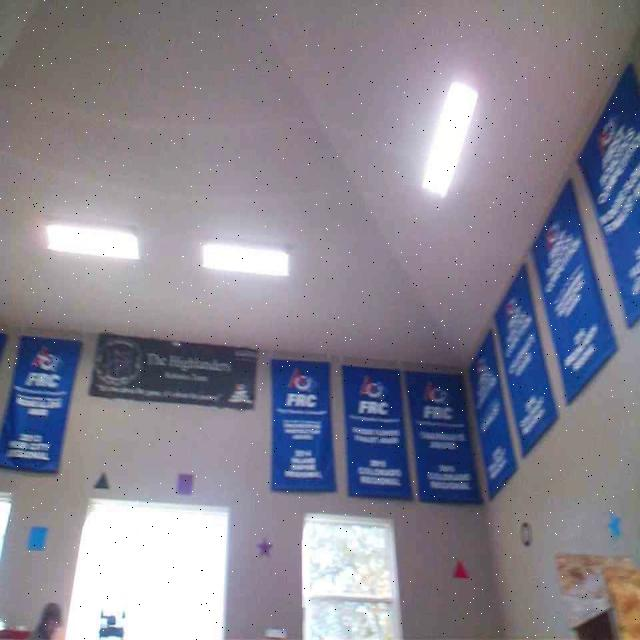ring_black: (520, 520, 532, 547)
square_blue: (26, 526, 49, 550)
square_purple: (174, 471, 194, 493)
star_blue: (605, 508, 623, 540)
star_purple: (257, 536, 274, 556)
triangle_black: (94, 473, 111, 488)
triangle_red: (452, 558, 469, 578)
